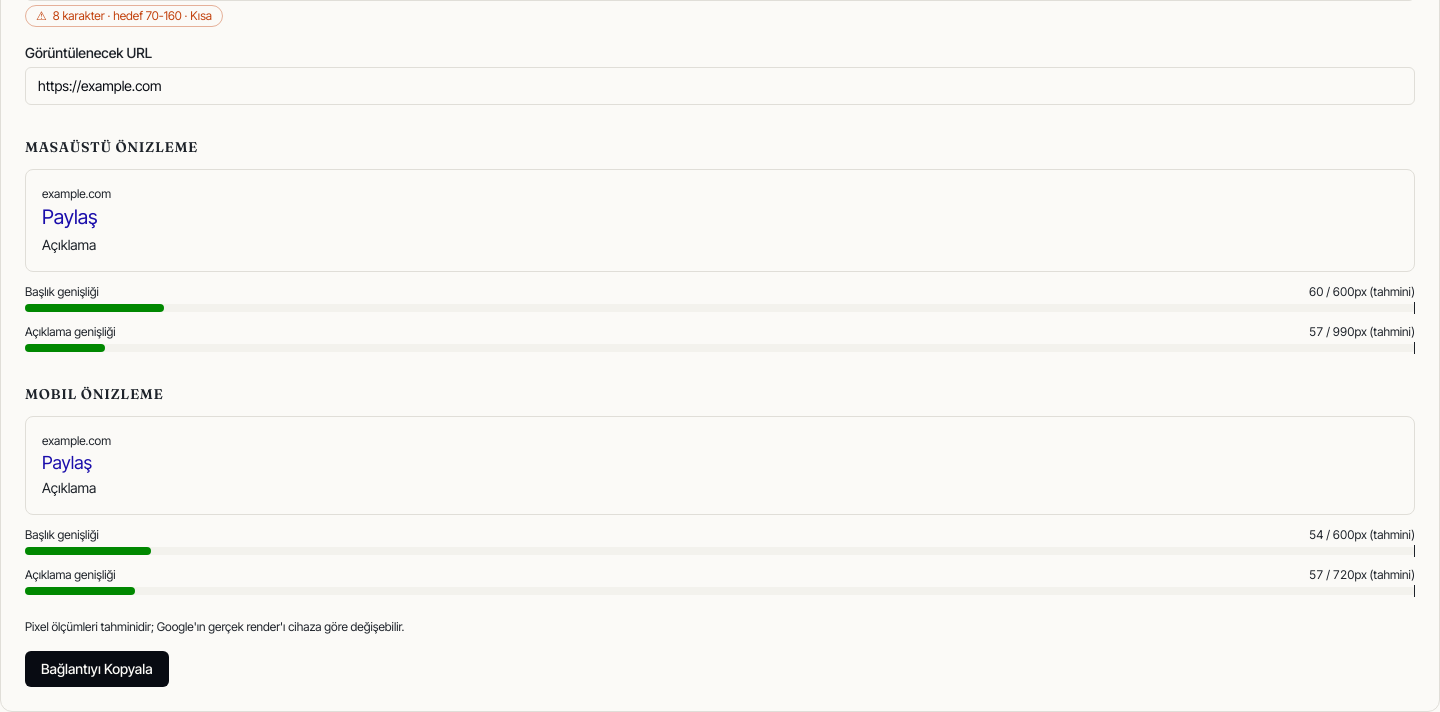
Scenario: SerpPreviewTool › shows a Turkish error message when every copy method fails
(page scrolled)
Click the button "Bağlantıyı Kopyala": (97, 669) [25,651,169,687]
(page scrolled)
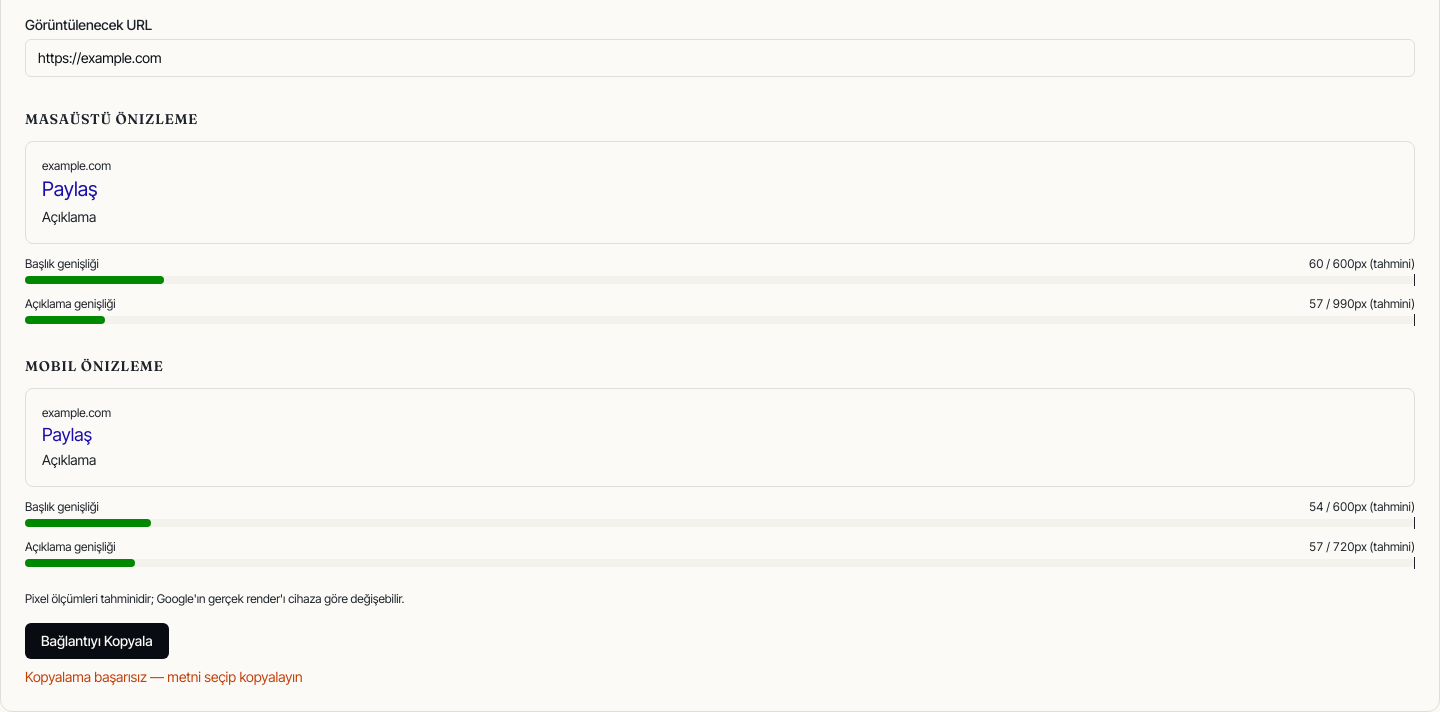
Now the message shows "Kopyalama başarısız", box [25,668,302,685]
